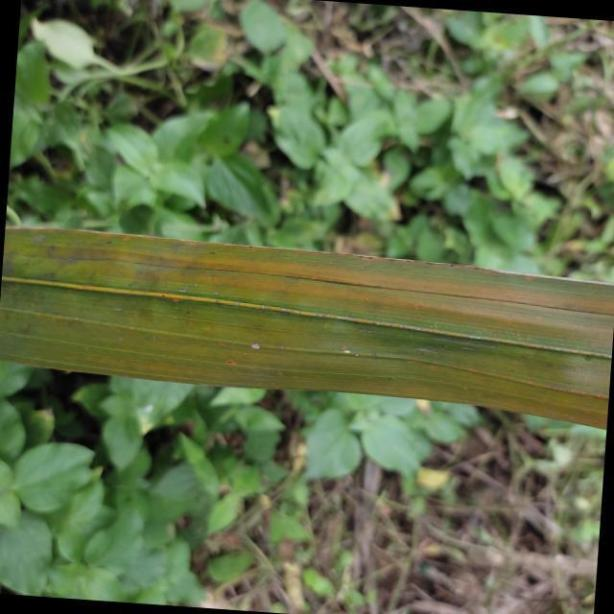Megnesium: (0, 219, 614, 430)
